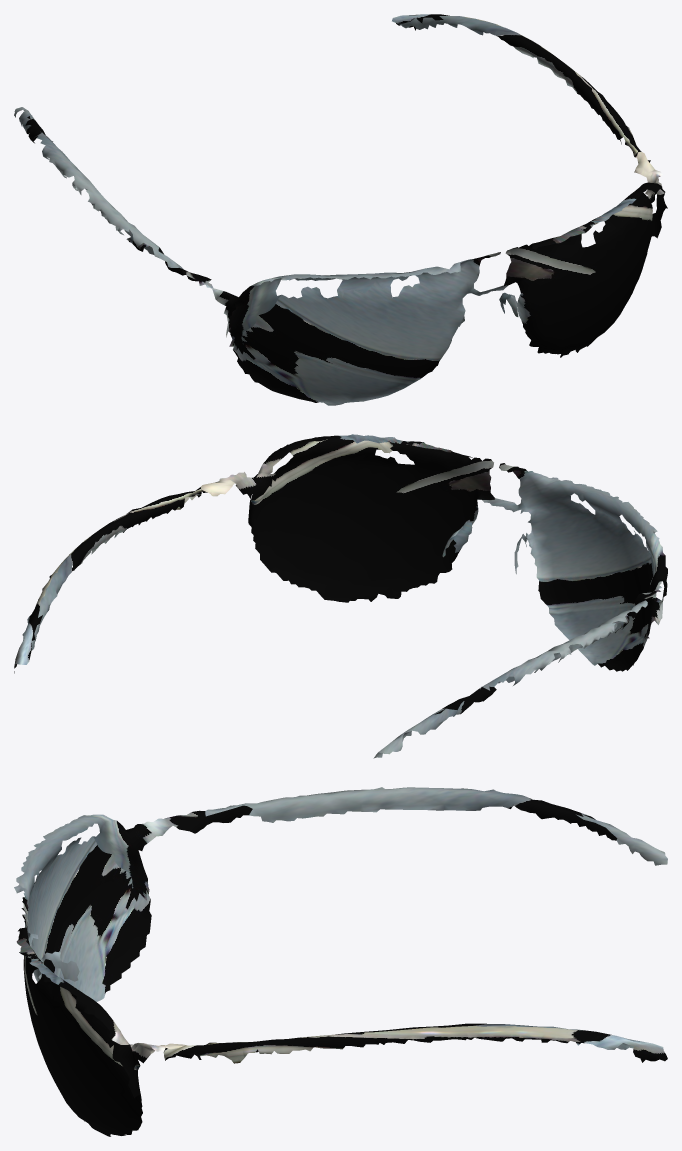
File: scan_align.obj
3 renders of one model, top to bottom at view 1: azimuth 30°, elevation 25°; view 2: azimuth 150°, elevation 25°; view 3: azimuth 270°, elevation 25°, orthographic. The views are drawn at different scales.
Size of the model in its own units: 0.1495 by 0.0442 by 0.1615.
